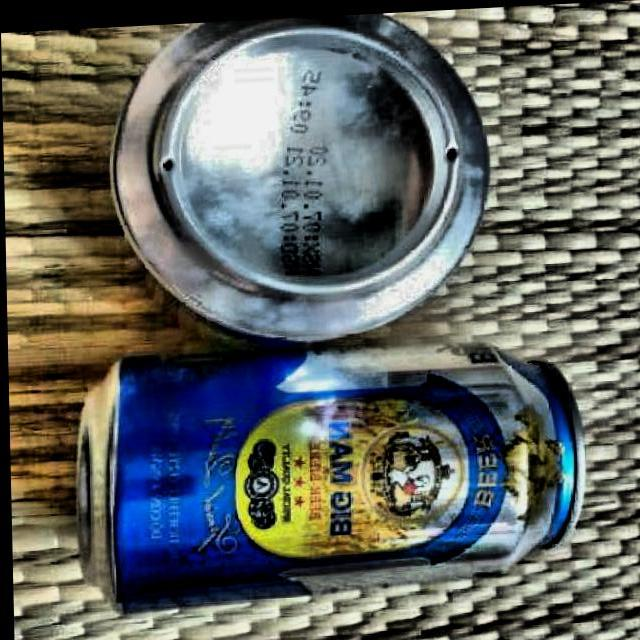litter: (61, 328, 594, 618), (104, 6, 497, 346)
